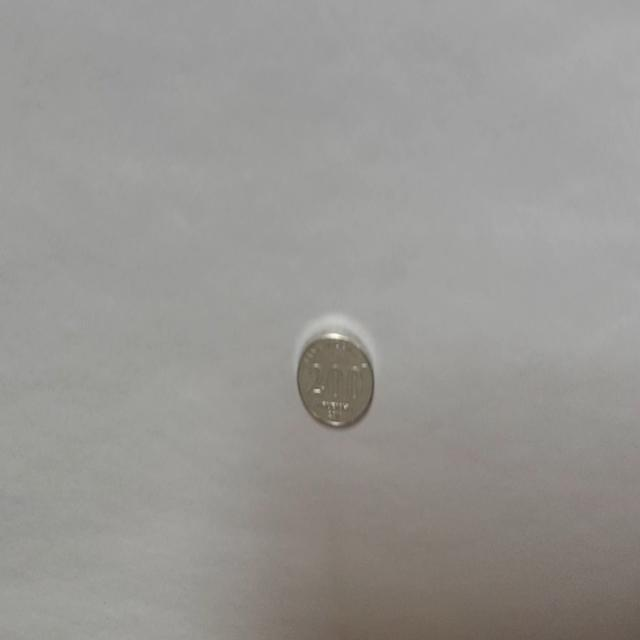dua ratus rupiah: (296, 328, 374, 430)
